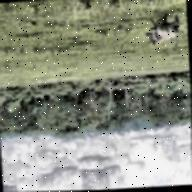boar: (137, 20, 178, 52)
